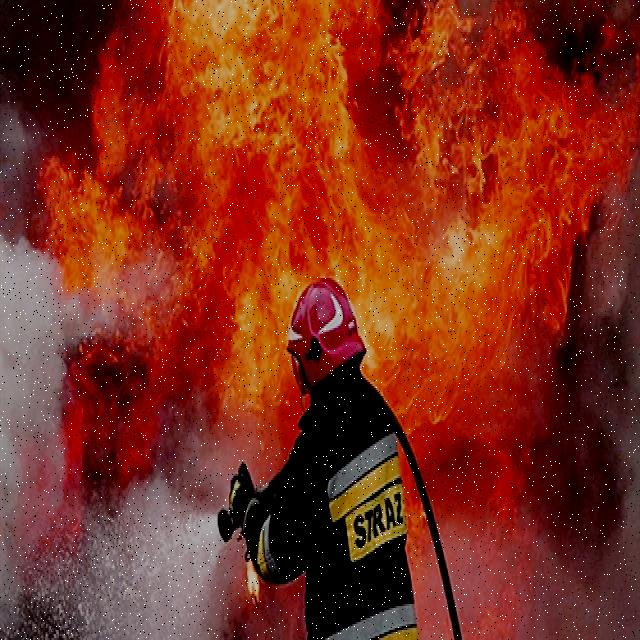api: (132, 3, 572, 278), (50, 166, 132, 276)
asap: (2, 248, 62, 618), (606, 195, 640, 630), (153, 478, 214, 638), (573, 281, 597, 626)
